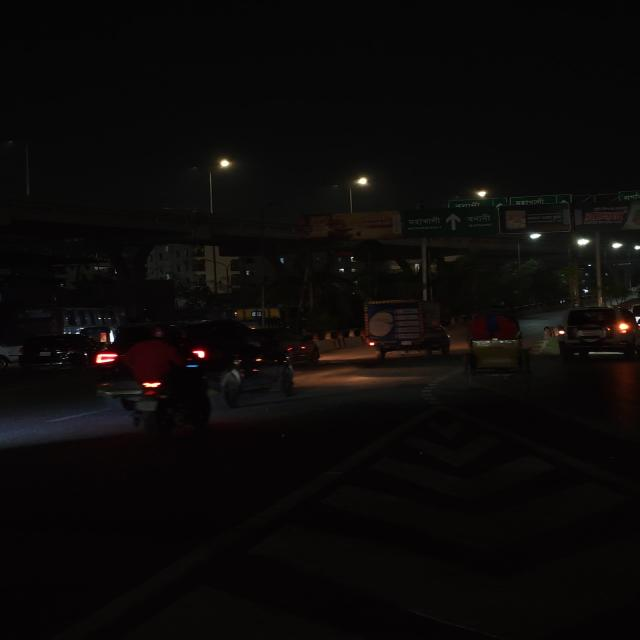car: (221, 321, 301, 407), (552, 305, 638, 359), (11, 332, 98, 376)
motorcycle: (97, 328, 215, 440)
rickshaw: (463, 311, 532, 377)
truck: (358, 298, 456, 363)
